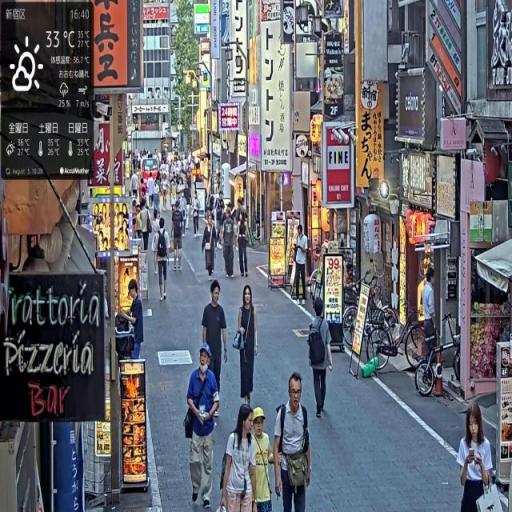person: (273, 371, 315, 512), (185, 343, 220, 510), (219, 397, 258, 512), (301, 298, 335, 422), (459, 399, 496, 512), (203, 280, 229, 404), (249, 405, 278, 512), (234, 283, 259, 407), (292, 223, 311, 305), (155, 218, 172, 305), (128, 281, 145, 359), (221, 205, 238, 280), (203, 213, 220, 284), (237, 208, 252, 279), (171, 203, 186, 271), (192, 191, 202, 238)
